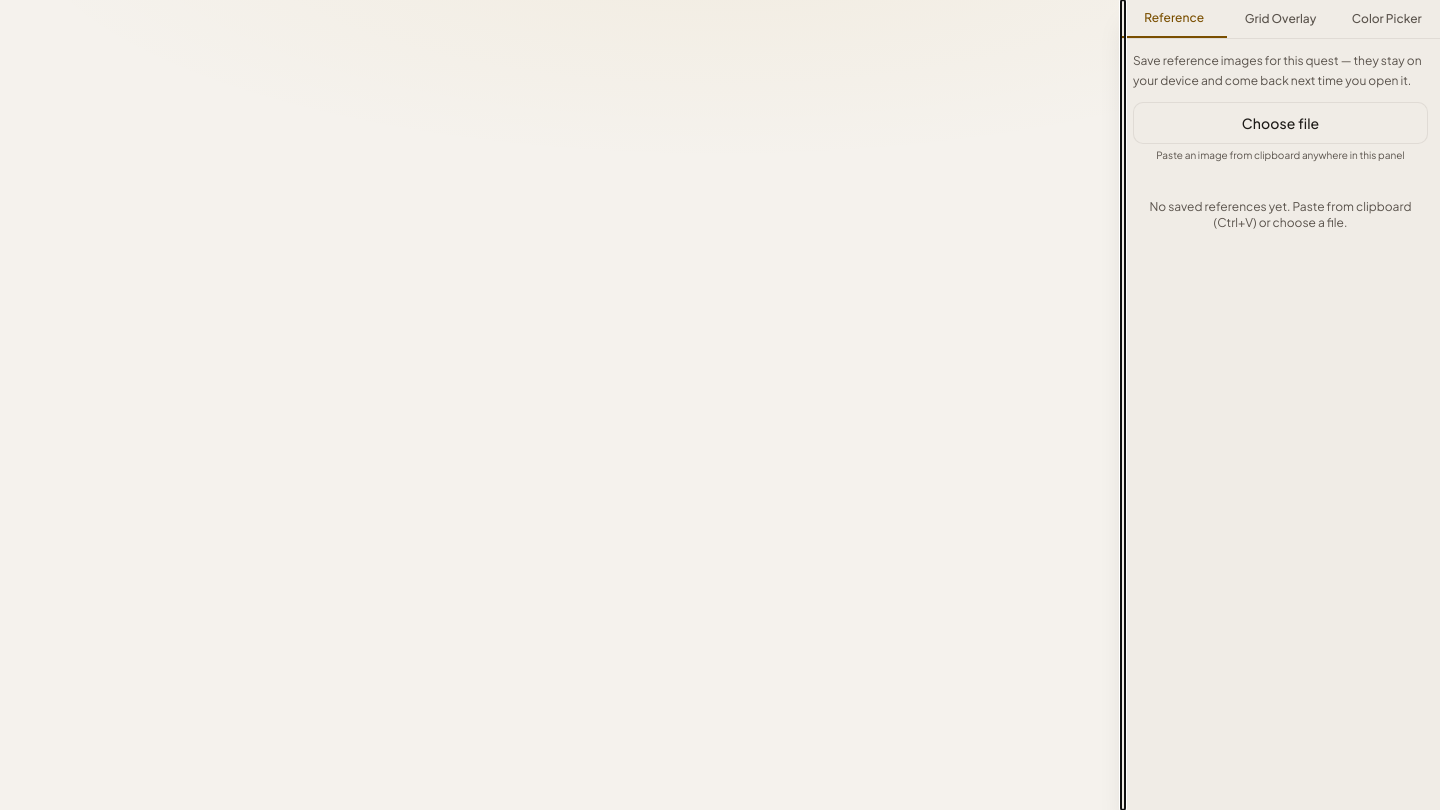
Test: ReferencePanel › switches to grid tab when clicked
The image size is (1440, 810).
Click the button "Grid Overlay": {"x": 1280, "y": 19} [1227, 1, 1334, 37]
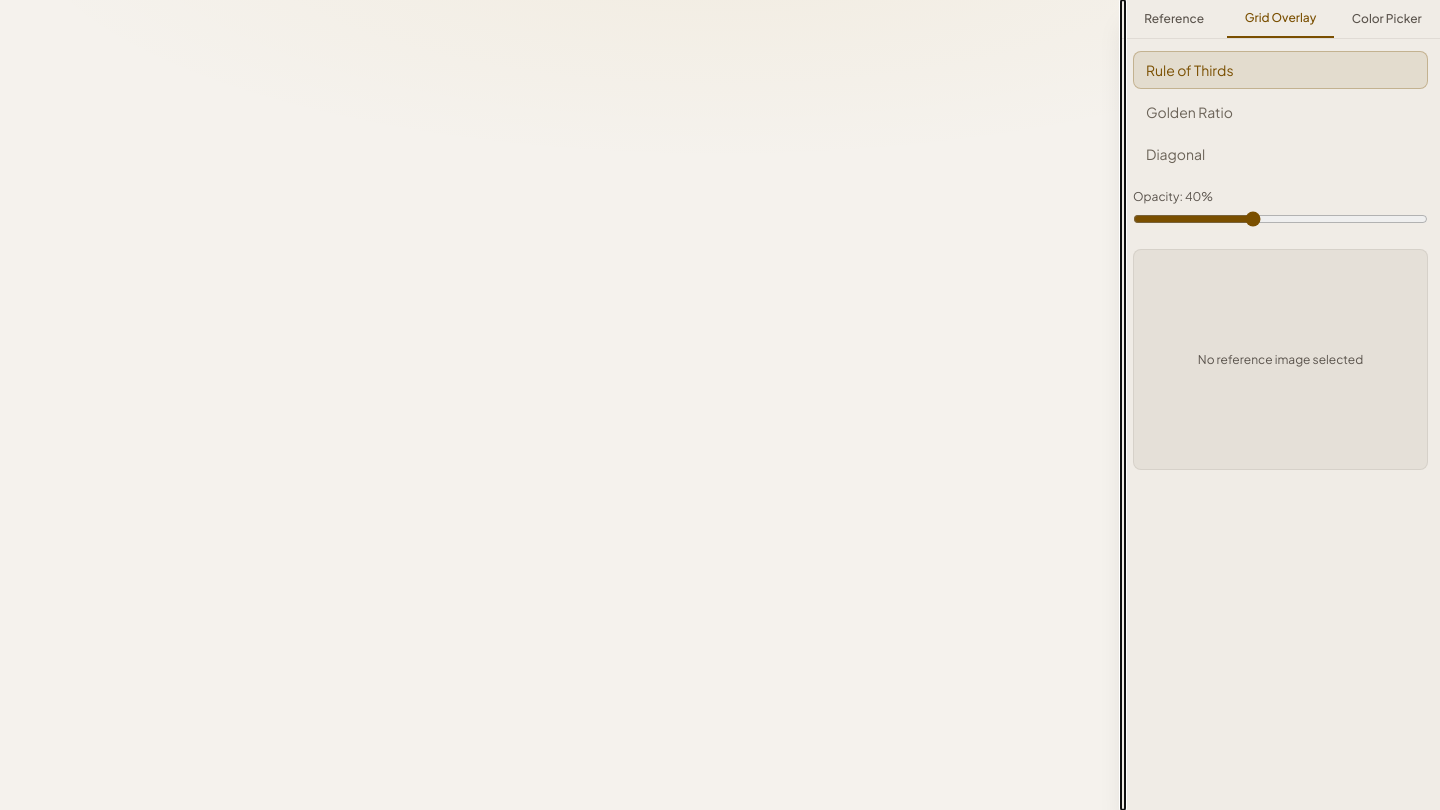
Now the button "Rule of Thirds" is shown, box [1133, 51, 1428, 89]
Now the button "Golden Ratio" is shown, box [1133, 93, 1428, 131]
Now the button "Diagonal" is shown, box [1133, 135, 1428, 173]
